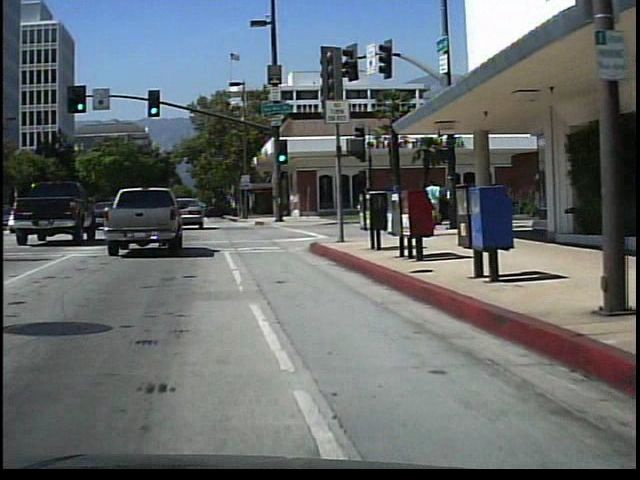person: (429, 177, 446, 235)
